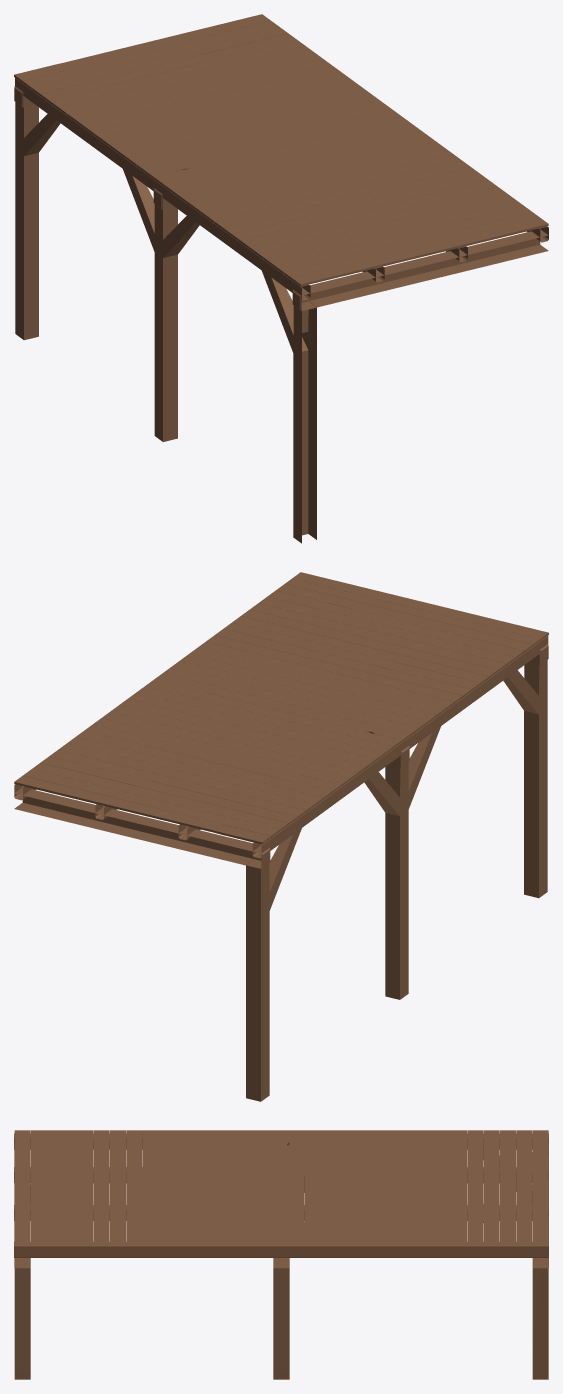
The model's file is plafond_bois.fbx.
The picture shows the model from 3 angles, top to bottom: view 1: azimuth 30°, elevation 25°; view 2: azimuth 150°, elevation 25°; view 3: azimuth 270°, elevation 25°; orthographic projection. The views are drawn at different scales.
Visible parts, largest first — view 1: plafond_bois; view 2: plafond_bois; view 3: plafond_bois.
Part boxes in pixels (box(x1,y1,x2,y2)): plafond_bois: box(14, 14, 548, 543); plafond_bois: box(14, 572, 548, 1101); plafond_bois: box(14, 1130, 548, 1379).
Size of the model in its own units: 200 by 200 by 401.
